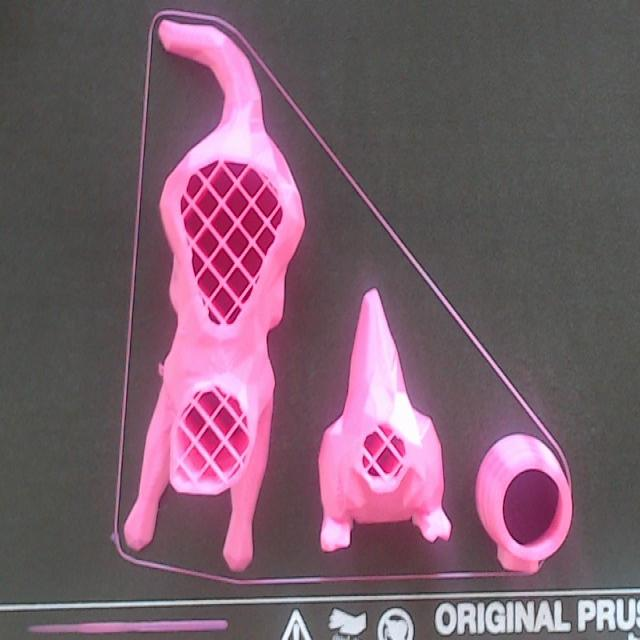mistake: (158, 363, 164, 376)
